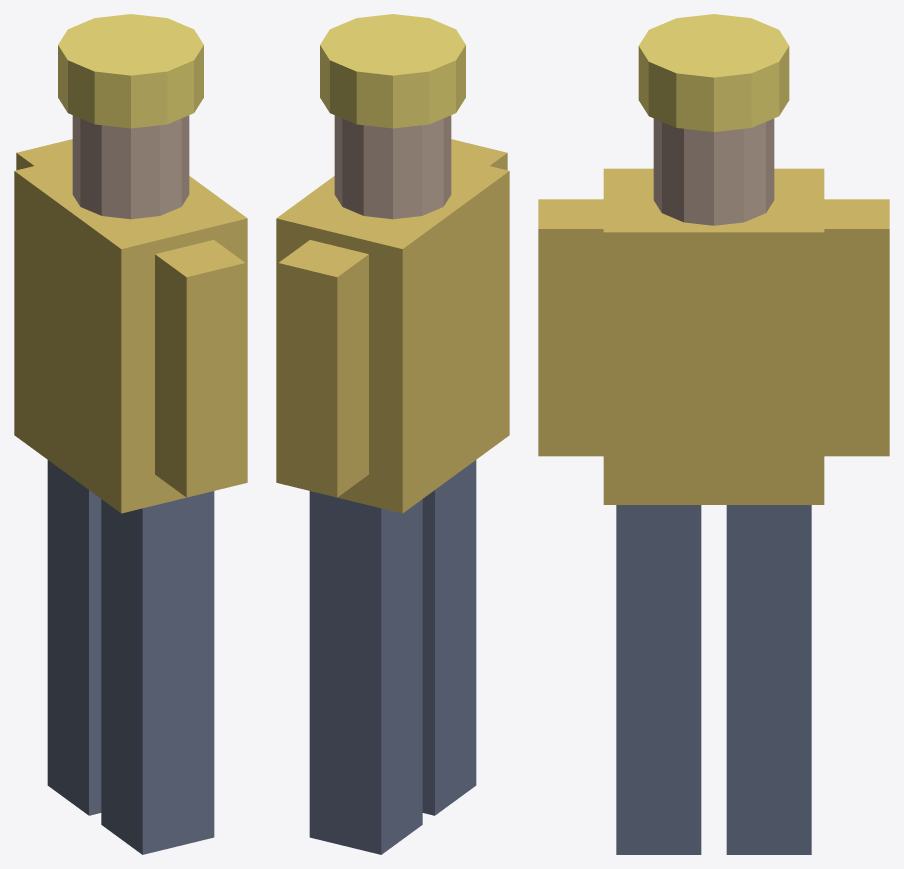
Rendered from operator.glb.
3 renders of one model, left to right at view 1: azimuth 30°, elevation 25°; view 2: azimuth 150°, elevation 25°; view 3: azimuth 270°, elevation 25°, orthographic. The views are drawn at different scales.
Parts seen in each view (by area): view 1: Operator; view 2: Operator; view 3: Operator.
Part boxes in pixels (x1,y1,x2,y2): Operator: (14, 14, 247, 854); Operator: (276, 14, 509, 854); Operator: (538, 14, 889, 854).
Size of the model in its own units: 0.3 by 1.74 by 0.7.
